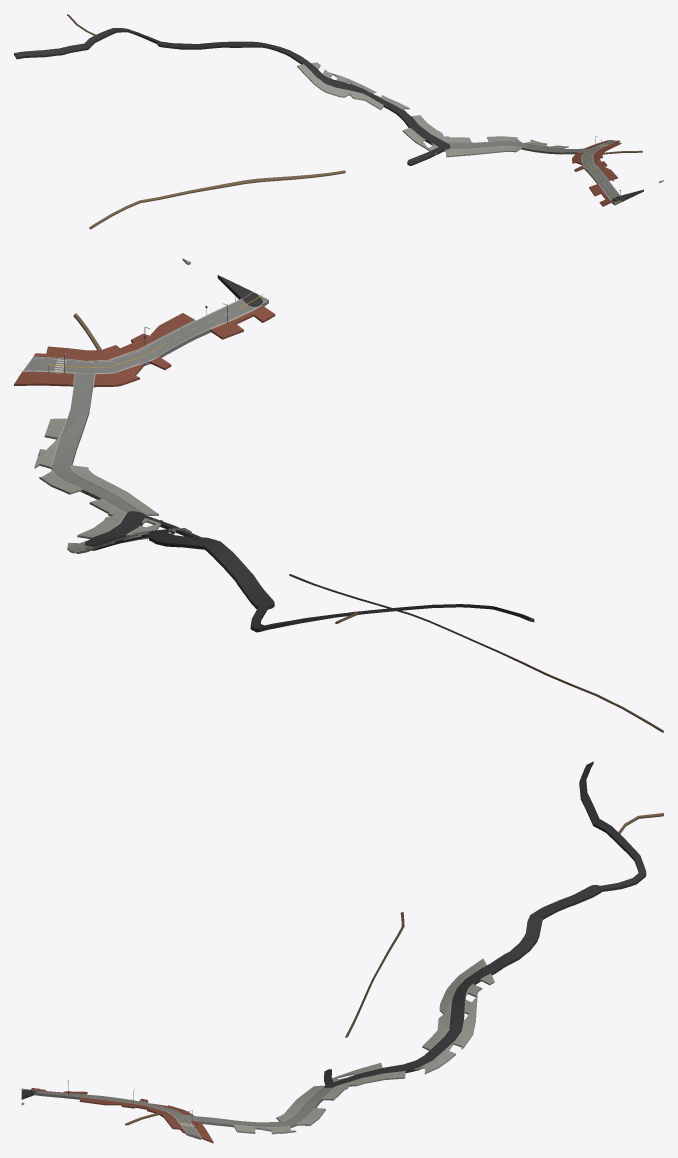
3 views of the same model, one above another, from view 1: azimuth 30°, elevation 25°; view 2: azimuth 150°, elevation 25°; view 3: azimuth 270°, elevation 25° (orthographic). The views are drawn at different scales.
Size of the model in its own units: 297 by 76.63 by 295.
